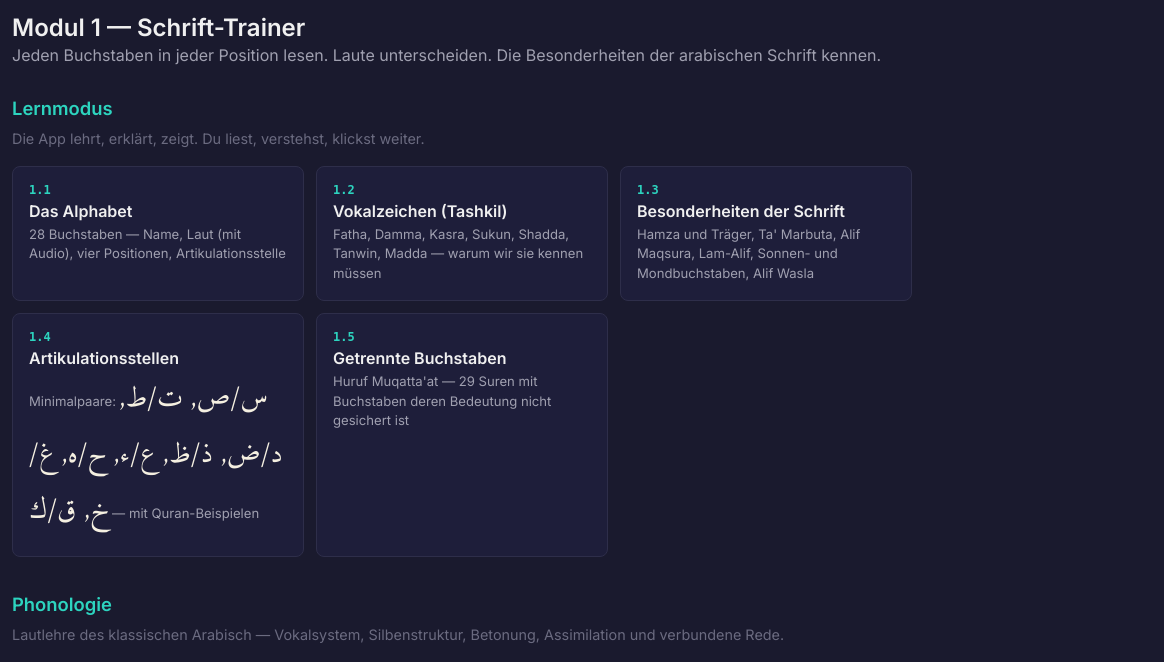
Test case: Module1 Overview and Section Navigation › clicking "Zurück zur Übersicht" returns to overview from lesson
Step 1. Click the text "Das Alphabet" → point(81, 211), box x1=29 y1=201 x2=132 y2=221
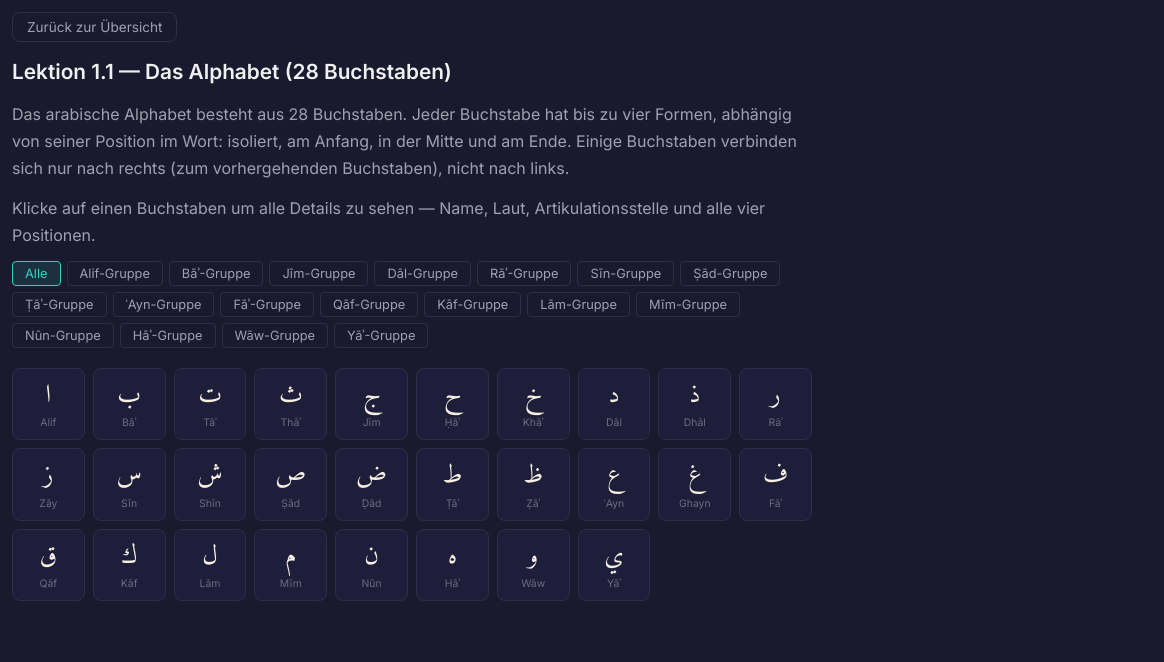
Now the heading "Lektion 1.1 — Das Alphabet (28 Buchstaben)" is shown, box x1=12 y1=59 x2=452 y2=84
Step 2. Click the button "Zurück zur Übersicht" → point(95, 27), box x1=12 y1=12 x2=178 y2=42
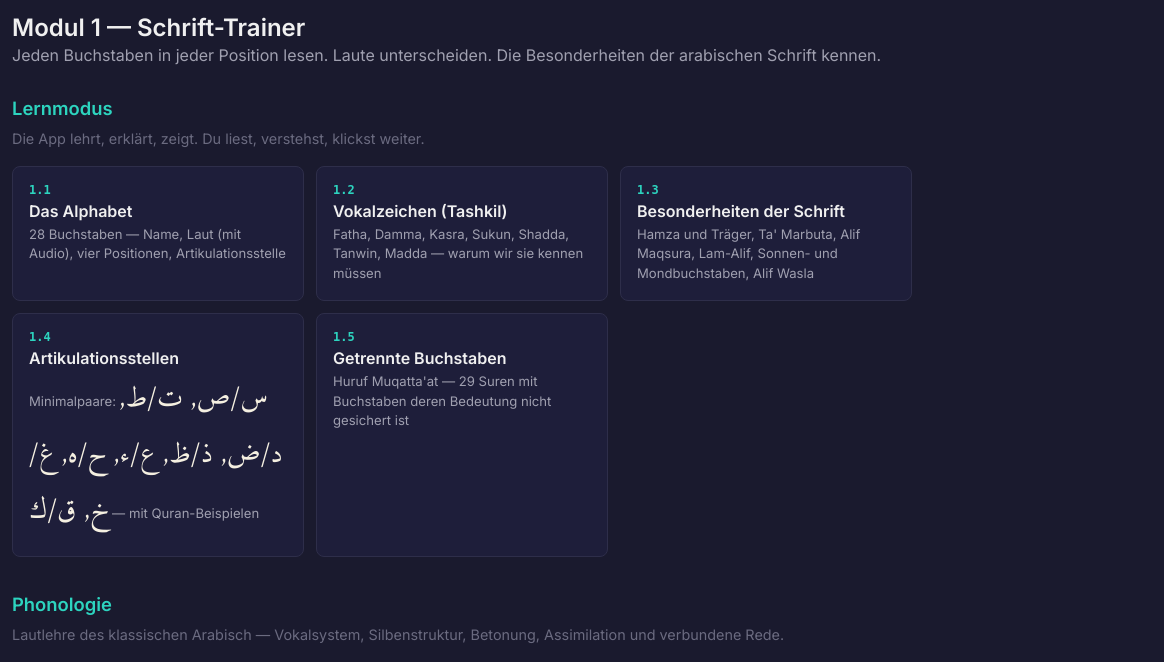
Now the heading "Modul 1 — Schrift-Trainer" is shown, box x1=12 y1=13 x2=305 y2=42
